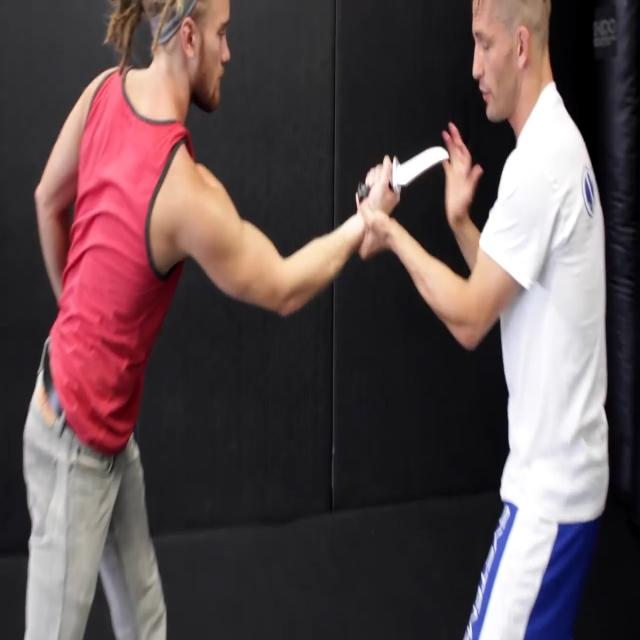knife: (355, 144, 451, 200)
